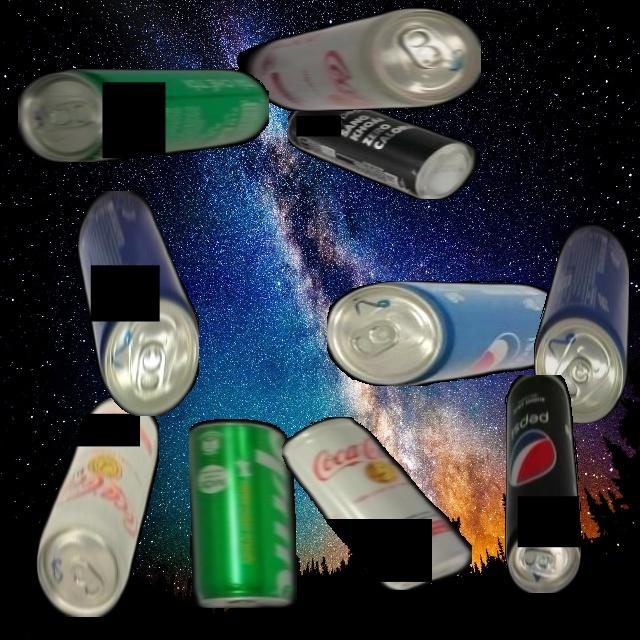debris: (282, 416, 472, 590), (77, 190, 199, 416), (35, 397, 159, 617), (230, 8, 481, 111), (327, 280, 568, 386), (18, 67, 269, 162), (189, 418, 297, 608), (288, 97, 484, 199), (533, 224, 629, 423), (504, 374, 581, 593)
